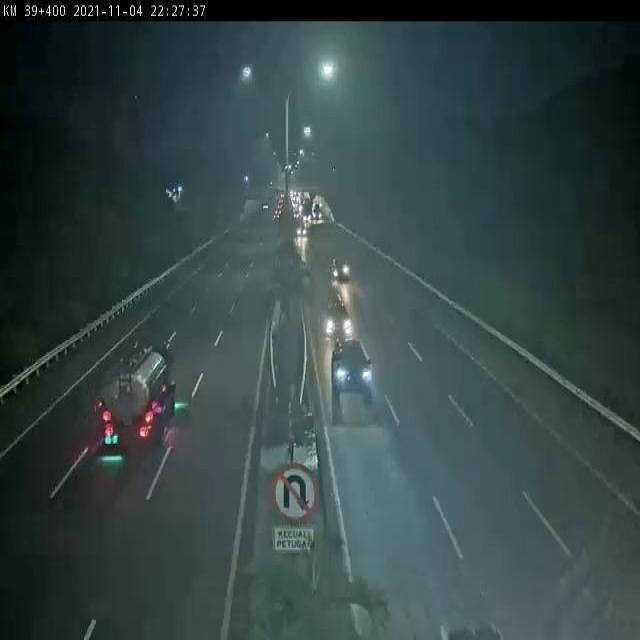car: (330, 340, 374, 396), (322, 303, 350, 336)
truck: (96, 344, 169, 445)
